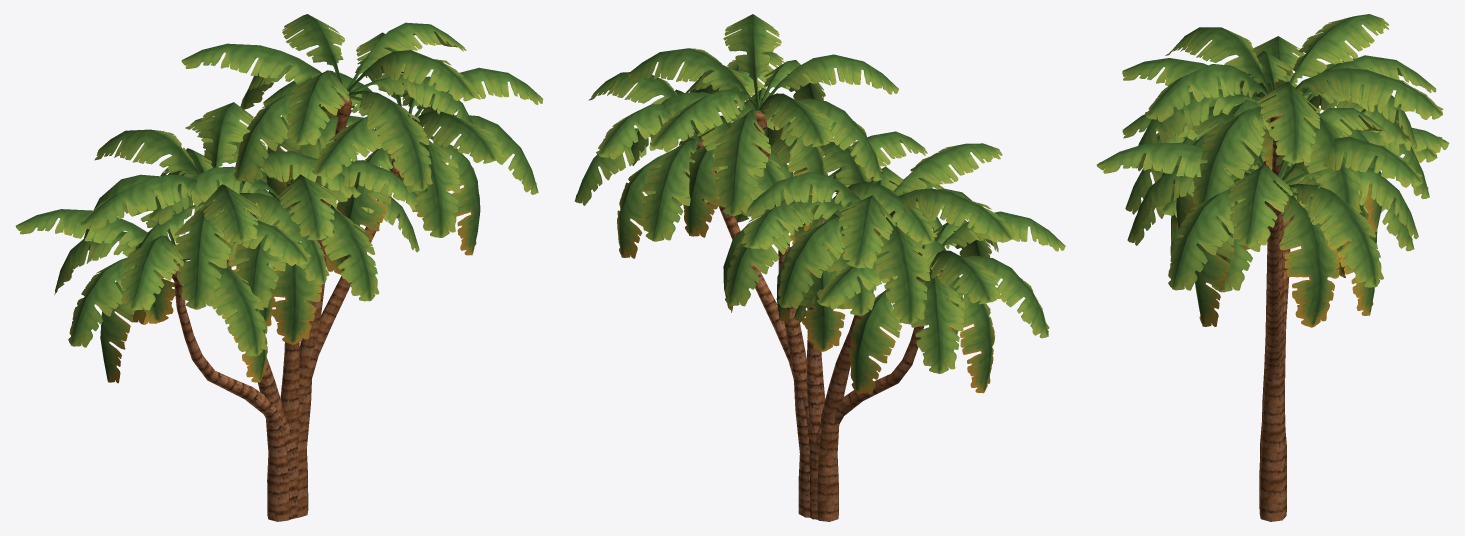
File: palms.glb
The picture shows the model from 3 angles, left to right: view 1: azimuth 30°, elevation 25°; view 2: azimuth 150°, elevation 25°; view 3: azimuth 270°, elevation 25°; orthographic projection. The views are drawn at different scales.
Visible parts, largest first — view 1: leafG (×4), leafY (×4), bark (×4); view 2: leafG (×4), leafY (×4), bark (×4); view 3: leafG (×4), leafY (×3), bark (×2).
Part boxes in pixels (<box>): leafG (×4): <box>15,14,543,356</box>; leafY (×4): <box>100,85,480,383</box>; bark (×4): <box>170,96,399,521</box>; leafG (×4): <box>575,14,1065,373</box>; leafY (×4): <box>617,88,995,394</box>; bark (×4): <box>696,110,924,521</box>; leafG (×4): <box>1096,14,1449,292</box>; leafY (×3): <box>1171,112,1382,327</box>; bark (×2): <box>1259,114,1291,521</box>.
Bounding box in the file's own units: 11.48 × 10.63 × 6.88.
6 materials, 6 textured.
